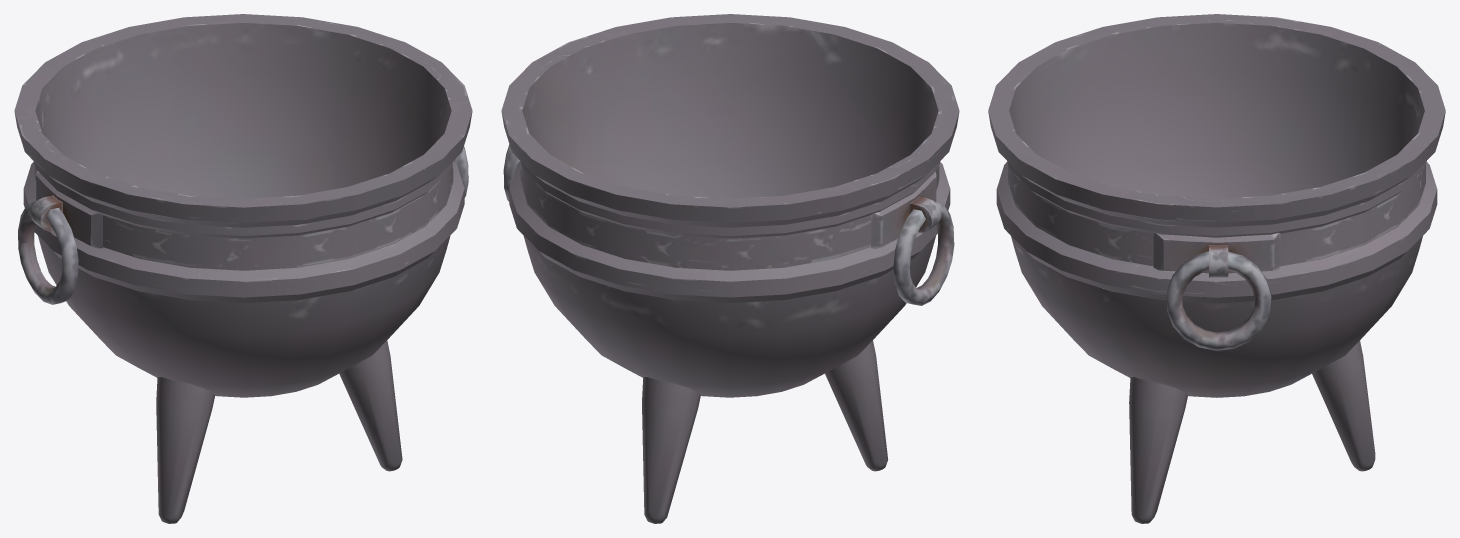
The model's file is cauldron.glb.
3 renders of one model, left to right at view 1: azimuth 30°, elevation 25°; view 2: azimuth 150°, elevation 25°; view 3: azimuth 270°, elevation 25°, orthographic.
Parts seen in each view (by area): view 1: Cauldron; view 2: Cauldron; view 3: Cauldron.
Boxes of the visible parts, x1,y1,x2,y2 form: Cauldron: (14,14,472,523); Cauldron: (501,14,959,523); Cauldron: (988,14,1445,523).
Size of the model in its own units: 0.9891 by 0.8155 by 0.9439.
1 material, 1 textured.
